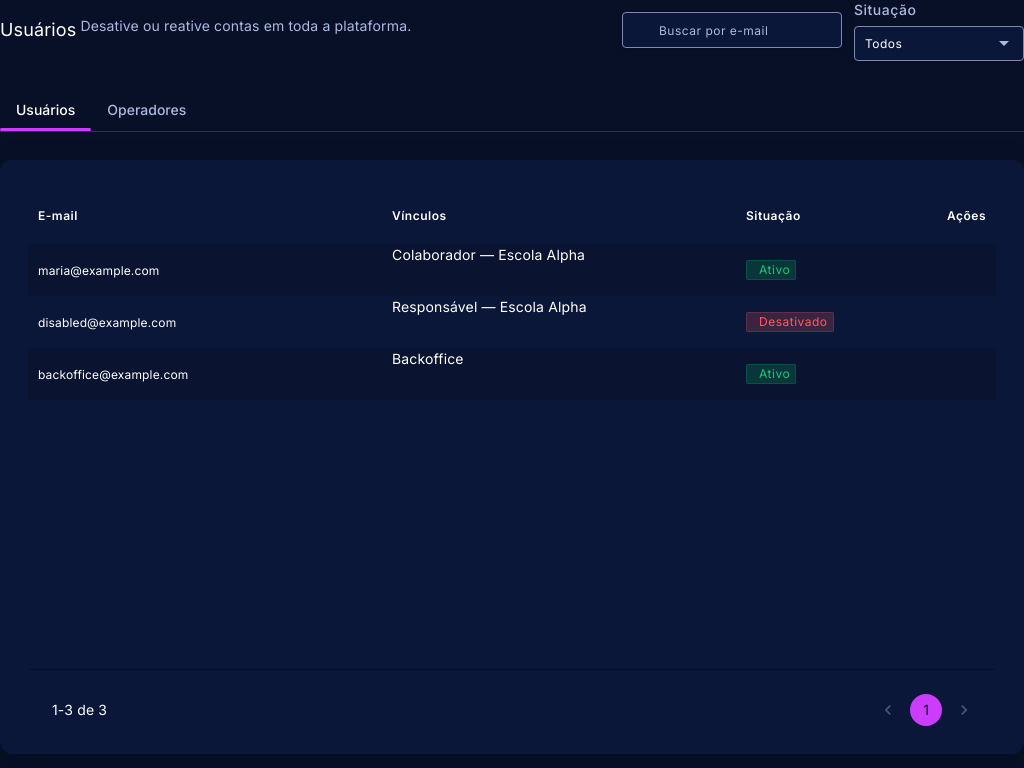
Scenario: Users page › lists operators with platform permissions on the Operators tab
Check: the text "maria@example.com" is shown, box [38, 263, 160, 278]
What coordinates should you click on to do the following:
click the tab "Operadores"
I would click on:
 (147, 110)
Its box is [91, 89, 202, 131].
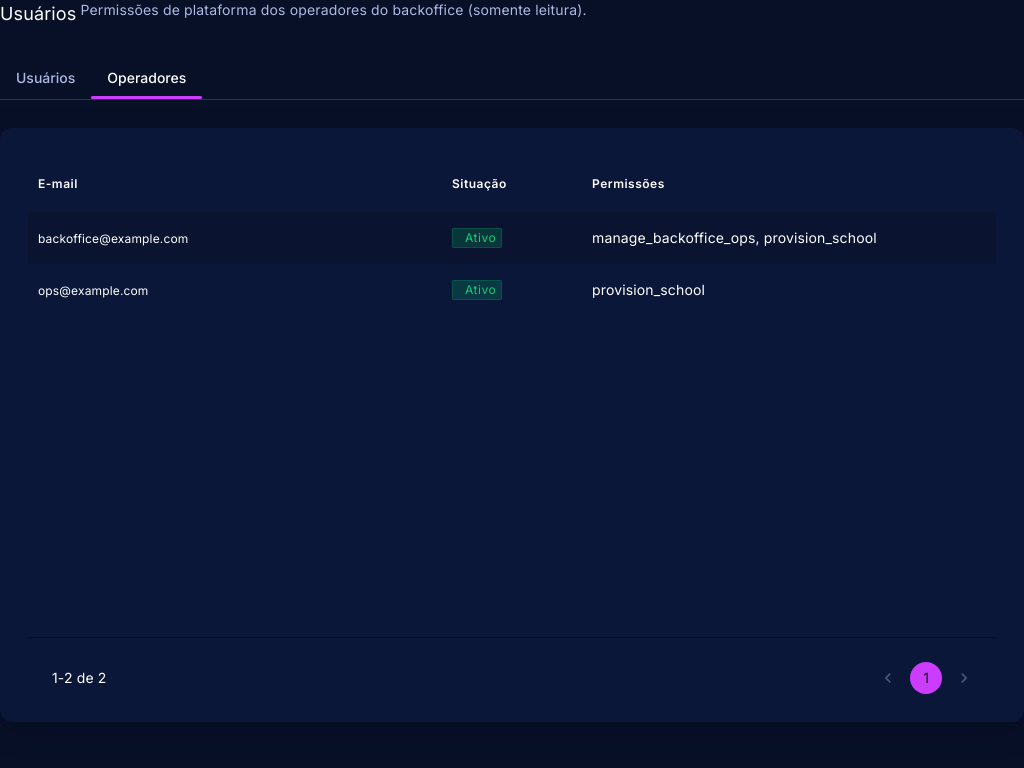
Check: the text "ops@example.com" is shown, box [38, 283, 148, 298]
Check: the text "manage_backoffice_ops, provision_school" is shown, box [592, 228, 877, 248]
Check: the text "provision_school" is shown, box [592, 280, 705, 300]
